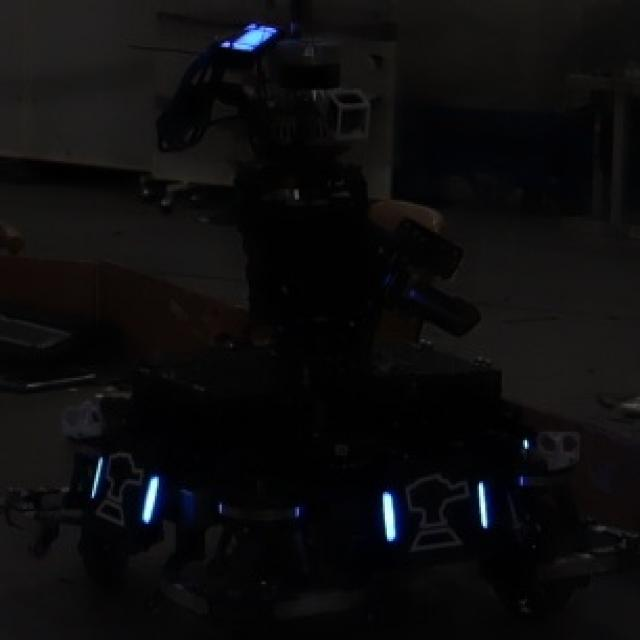Bs: (381, 468, 494, 552), (88, 447, 161, 532)
